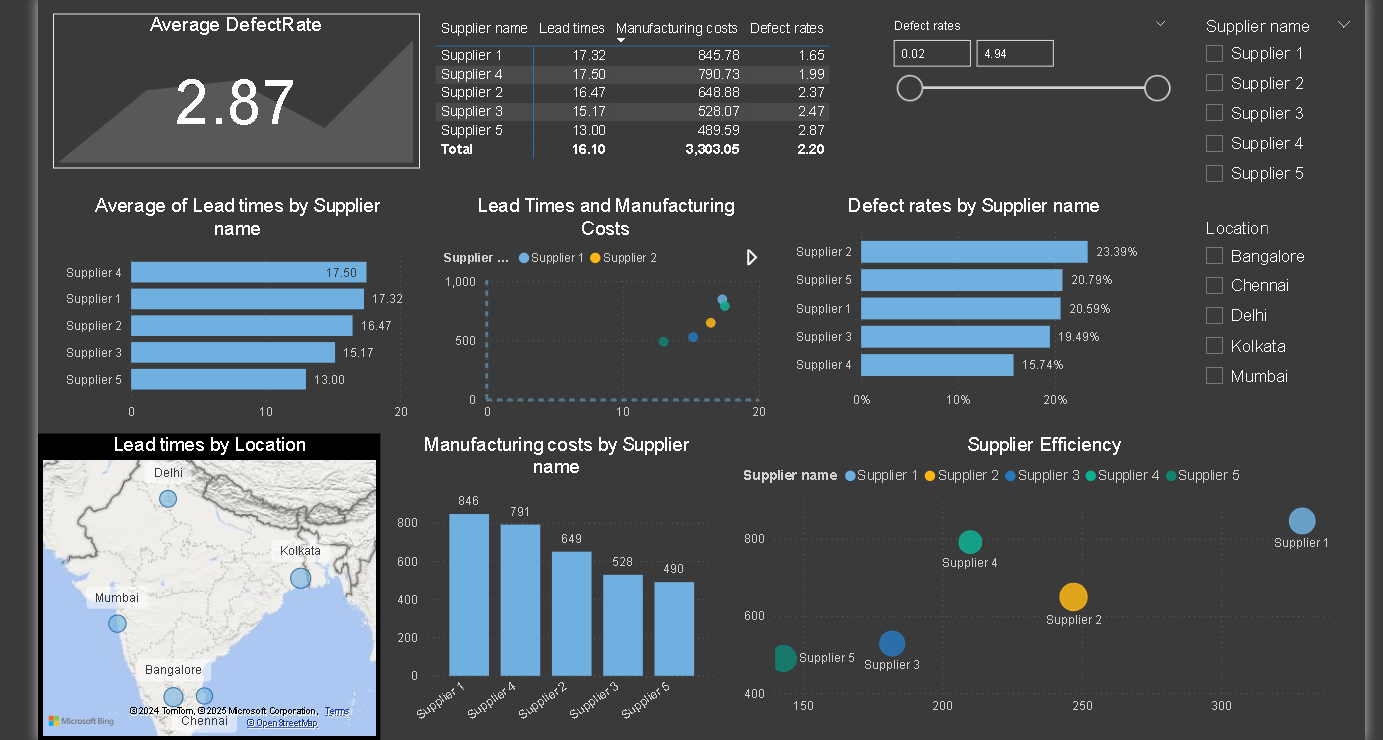

The dashboard page shown, as its layout file describes it:
{"tool":"powerbi","page":{"name":"Supplier Performance","canvas":[1280,720],"ordinal":2},"visuals":[{"type":"barChart","fields":{"Category":["supply_chain_data.Supplier name"],"Y":["Avg(supply_chain_data.Lead times)"]},"box":[18.6,191.4,349.3,226.2],"z":0},{"type":"map","title":"Lead times by Location","fields":{"Category":["supply_chain_data.Location"],"Size":["Sum(supply_chain_data.Lead times)"]},"box":[0,422.6,330.6,297.1],"z":1000},{"type":"columnChart","title":"Manufacturing costs by Supplier name","fields":{"Category":["supply_chain_data.Supplier name"],"Y":["Sum(supply_chain_data.Manufacturing costs)"]},"box":[341.8,422.6,318.2,297.1],"z":2000},{"type":"scatterChart","title":"Lead Times and Manufacturing Costs","fields":{"X":["Avg(supply_chain_data.Lead times)"],"Y":["Sum(supply_chain_data.Manufacturing costs)"],"Series":["supply_chain_data.Supplier name"]},"box":[387.8,191.4,320.7,226.2],"z":3000},{"type":"barChart","title":"Defect rates by Supplier name","fields":{"Category":["supply_chain_data.Supplier name"],"Y":["Sum(supply_chain_data.Defect rates)"]},"box":[722.2,191.4,360.5,213.8],"z":4000},{"type":"kpi","title":"Average DefectRate","fields":{"Indicator":["BaseMeasures.AverageDefectRate"],"TrendLine":["supply_chain_data.Supplier name"]},"box":[14.9,17.4,353,149.2],"z":5000},{"type":"pivotTable","fields":{"Rows":["supply_chain_data.Supplier name"],"Values":["Avg(supply_chain_data.Lead times)","Sum(supply_chain_data.Manufacturing costs)","Avg(supply_chain_data.Defect rates)"]},"box":[378.7,17.8,423.3,148.5],"z":5001},{"type":"scatterChart","title":"Supplier Efficiency","fields":{"X":["Sum(supply_chain_data.Lead times)"],"Y":["Sum(supply_chain_data.Manufacturing costs)"],"Size":["Sum(supply_chain_data.Defect rates)"],"Series":["supply_chain_data.Supplier name"]},"box":[676.2,422.6,590.4,278.4],"z":5002},{"type":"slicer","fields":{"Values":["supply_chain_data.Supplier name"]},"box":[1114.9,14.9,165.3,176.5],"z":5003},{"type":"slicer","fields":{"Values":["supply_chain_data.Location"]},"box":[1114.9,210.1,151.6,176.5],"z":5004},{"type":"slicer","fields":{"Values":["supply_chain_data.Defect rates"]},"box":[812.9,17.4,288.4,133],"z":5005}]}

Visuals, with their boxes on the page's 1280x720 design canvas (x1, y1, x2, y2). These are canvas units, not pixel positions in the 1383x740 screenshot, which may show the page scaled, cropped or inside an application window:
barChart - supply_chain_data.Supplier name x Avg(supply_chain_data.Lead times): l=19, t=191, r=368, b=418
"Lead times by Location" map: l=0, t=423, r=331, b=720
"Manufacturing costs by Supplier name" columnChart: l=342, t=423, r=660, b=720
"Lead Times and Manufacturing Costs" scatterChart: l=388, t=191, r=708, b=418
"Defect rates by Supplier name" barChart: l=722, t=191, r=1083, b=405
"Average DefectRate" kpi: l=15, t=17, r=368, b=167
pivotTable - supply_chain_data.Supplier name x Avg(supply_chain_data.Lead times): l=379, t=18, r=802, b=166
"Supplier Efficiency" scatterChart: l=676, t=423, r=1267, b=701
slicer - supply_chain_data.Supplier name: l=1115, t=15, r=1280, b=191
slicer - supply_chain_data.Location: l=1115, t=210, r=1266, b=387
slicer - supply_chain_data.Defect rates: l=813, t=17, r=1101, b=150
